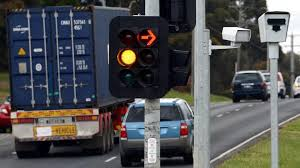amber: (113, 23, 138, 96), (115, 25, 139, 90), (119, 28, 136, 87)
